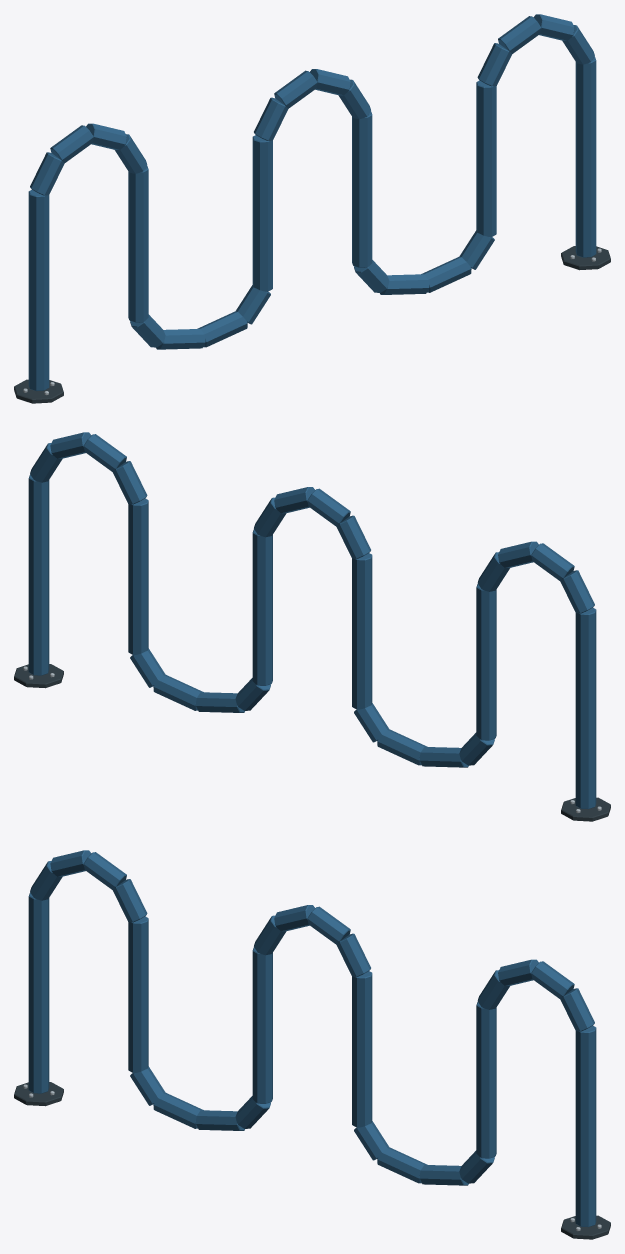
File: b01_serpentine_wave_bike_rack.glb
The picture shows the model from 3 angles, top to bottom: view 1: azimuth 30°, elevation 25°; view 2: azimuth 150°, elevation 25°; view 3: azimuth 330°, elevation 25°; orthographic projection.
Visible parts, largest first — view 1: b01_serpentine_wave_bike_rack; view 2: b01_serpentine_wave_bike_rack; view 3: b01_serpentine_wave_bike_rack.
Boxes of the visible parts, box(x1,y1,x2,y2) form: b01_serpentine_wave_bike_rack: box(14, 14, 610, 403); b01_serpentine_wave_bike_rack: box(14, 432, 610, 821); b01_serpentine_wave_bike_rack: box(14, 850, 610, 1239).
Bounding box in the file's own units: 2.38 × 0.9865 × 0.18.
